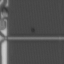dust: (31, 27, 35, 32)
